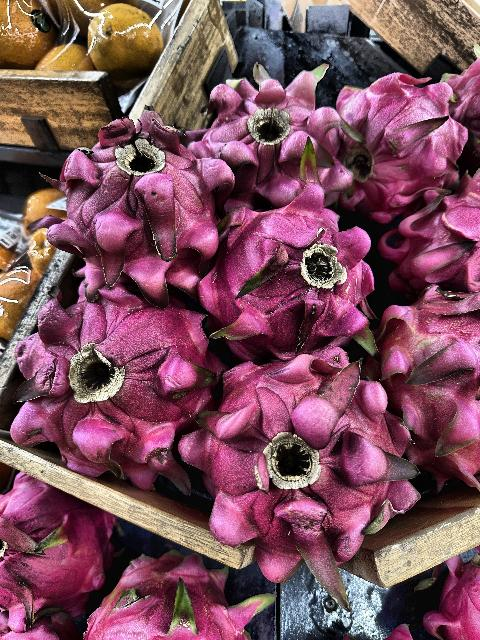buah-naga-matang: (182, 352, 426, 584), (13, 290, 229, 500), (50, 113, 222, 285), (208, 202, 372, 358), (380, 280, 480, 492), (83, 548, 281, 640), (336, 75, 470, 208), (192, 85, 346, 191), (0, 464, 110, 612), (392, 178, 480, 284)
